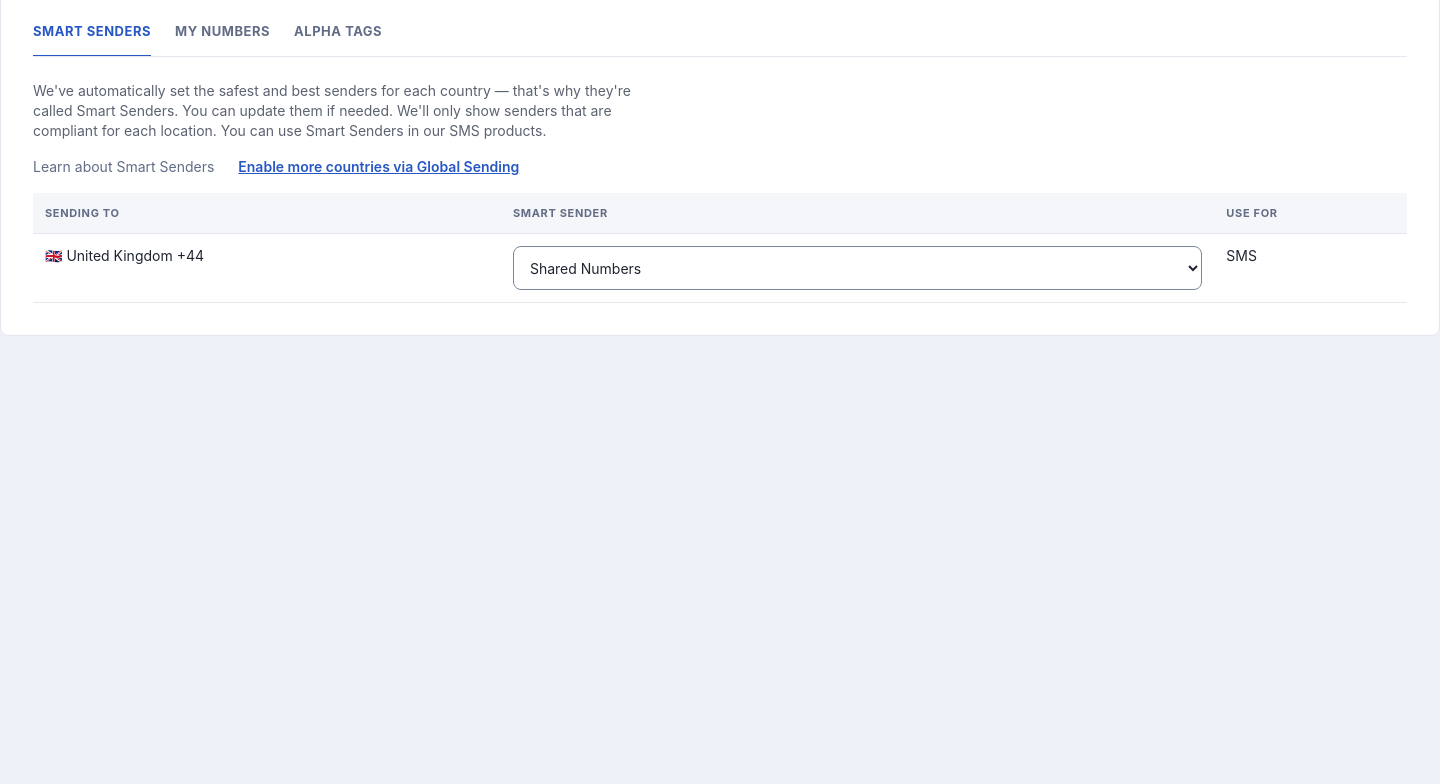
Test: MyNumbersTab › renders the server's refusal of a removal verbatim
Click the tab "My Numbers". click: (222, 32)
box: [175, 7, 270, 57]
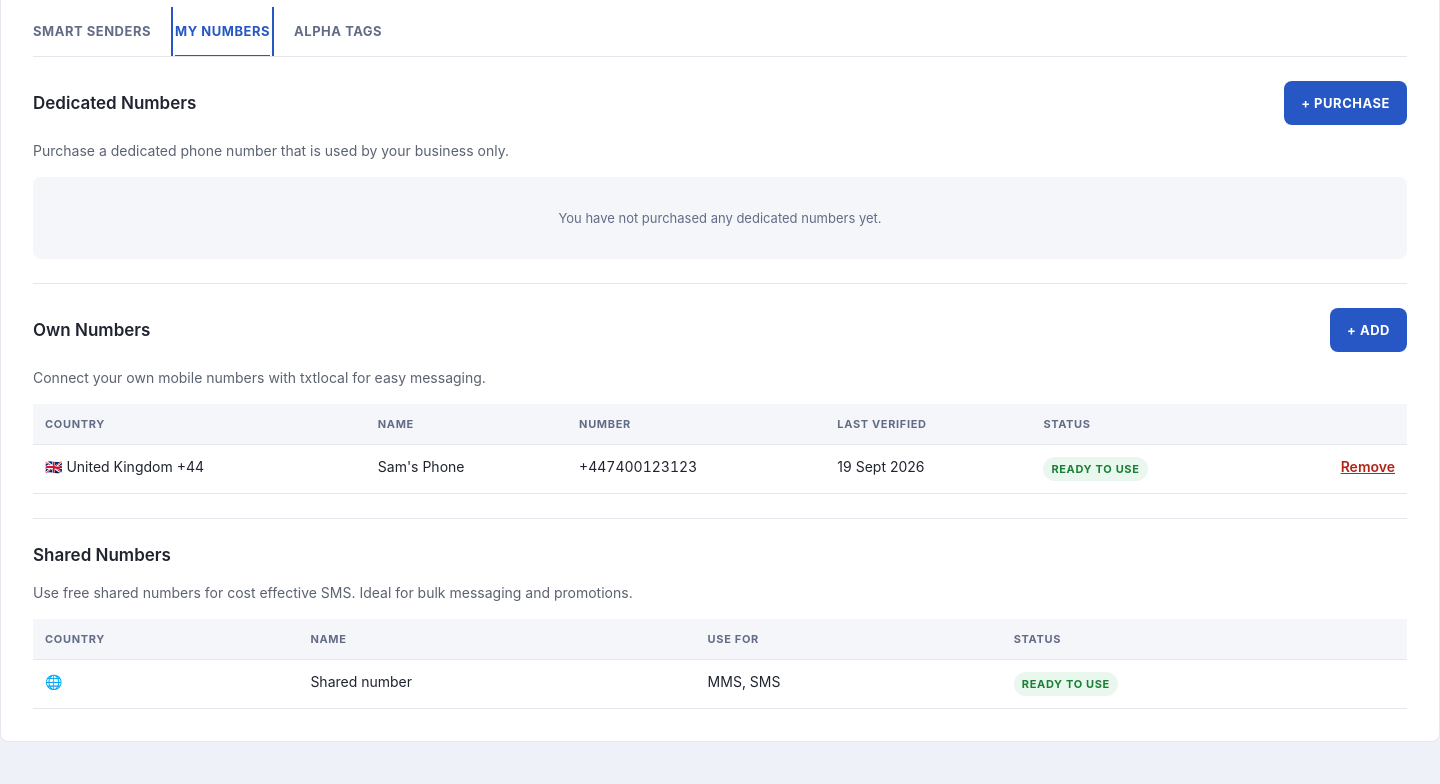
Click the button with aria-label "Remove +447400123123". click: (1368, 467)
box: [1333, 453, 1403, 481]
(page scrolled)
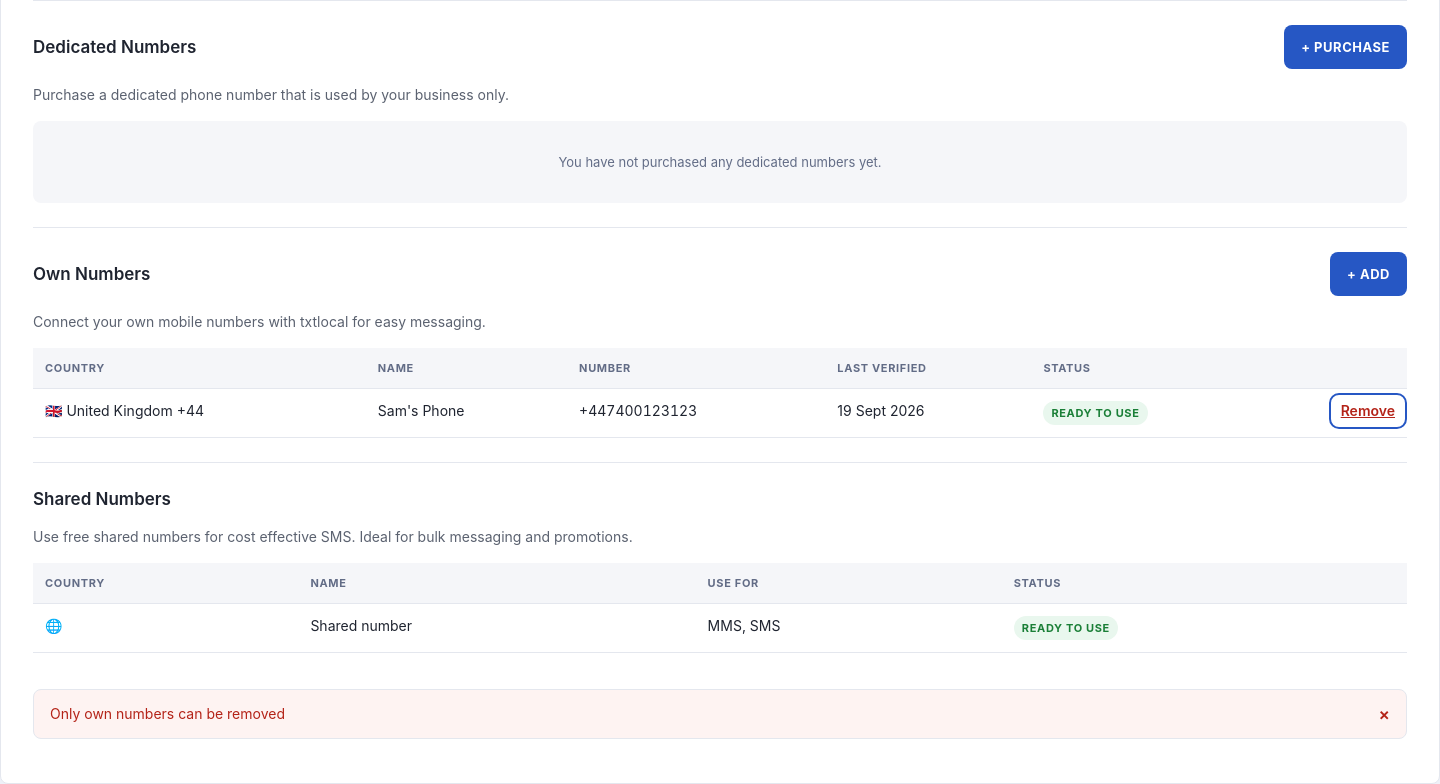
Now the message shows "Only own numbers can be removed", box [50, 705, 285, 722]
